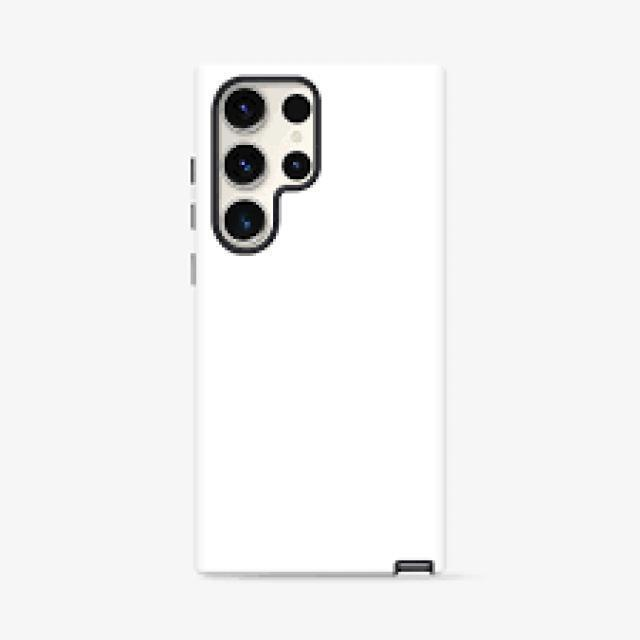lens: (205, 77, 328, 251)
phone: (180, 52, 447, 577)
